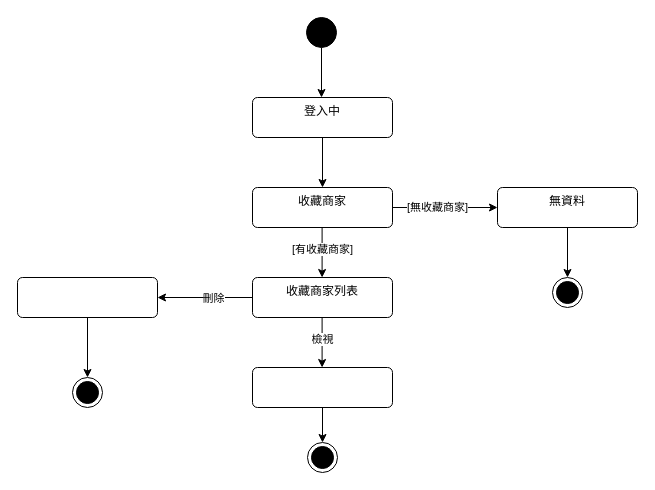
Image size: 655x490. Some labels were removed from this diagram. The shapes that lost their labels are listed below. From the top down, each one's box as (x1, y1, x2, y2) in pixels, then its label:
(16, 276, 158, 318): 收藏商家刪除
(252, 366, 392, 408): 收藏商家資訊
